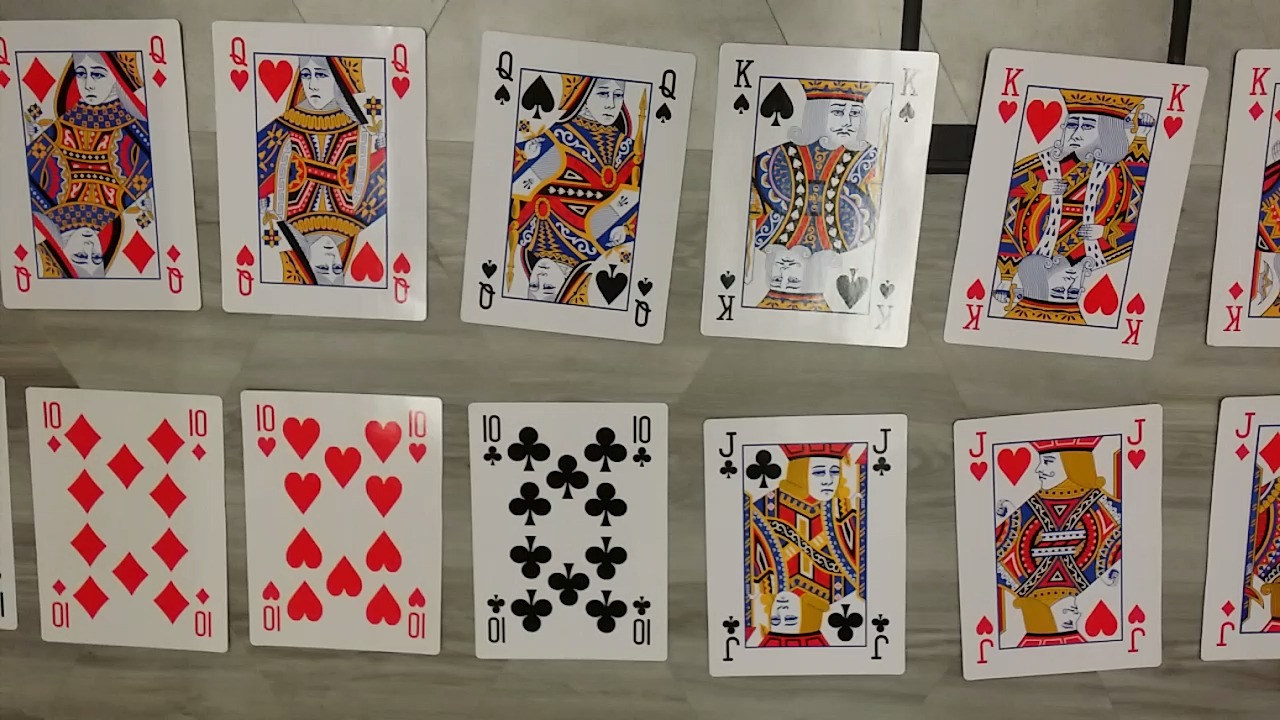10_club: (459, 403, 667, 661)
10_diamond: (21, 381, 229, 654)
10_heart: (234, 387, 442, 653)
jack_club: (702, 409, 910, 681)
jack_heart: (951, 400, 1173, 680)
king_heart: (942, 46, 1212, 363)
king_spade: (700, 40, 940, 347)
queen_diamond: (0, 21, 200, 309)
queen_heart: (210, 16, 425, 322)
queen_spade: (456, 30, 694, 346)
